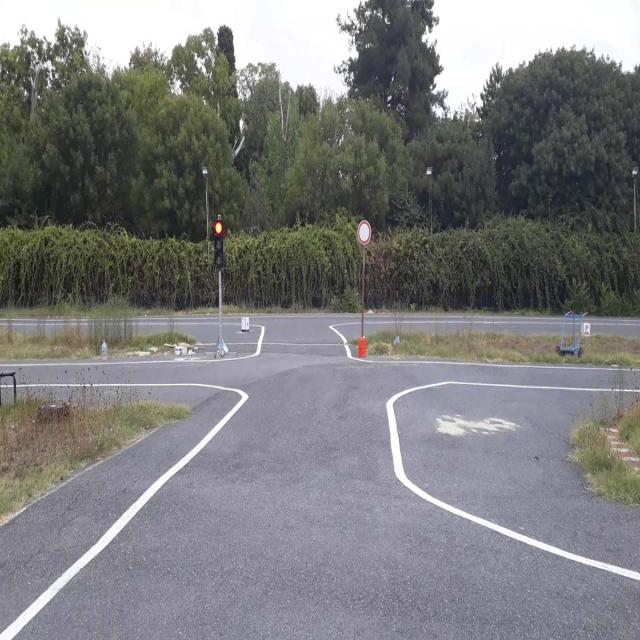kirmizi: (214, 220, 222, 266)
